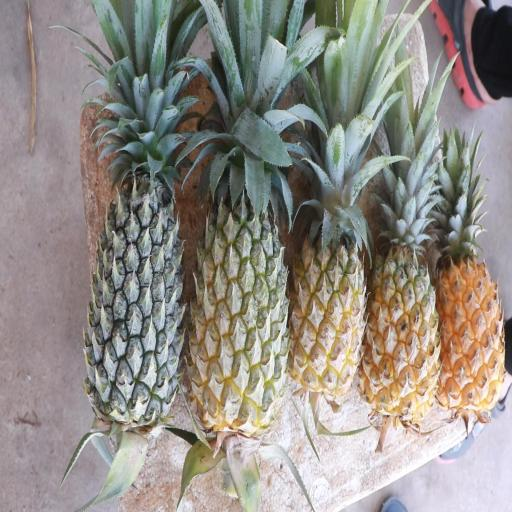------------------------------: (192, 132, 289, 421)
Pineapple - v8 v1: (287, 157, 364, 387), (363, 196, 438, 411), (433, 224, 504, 410)
